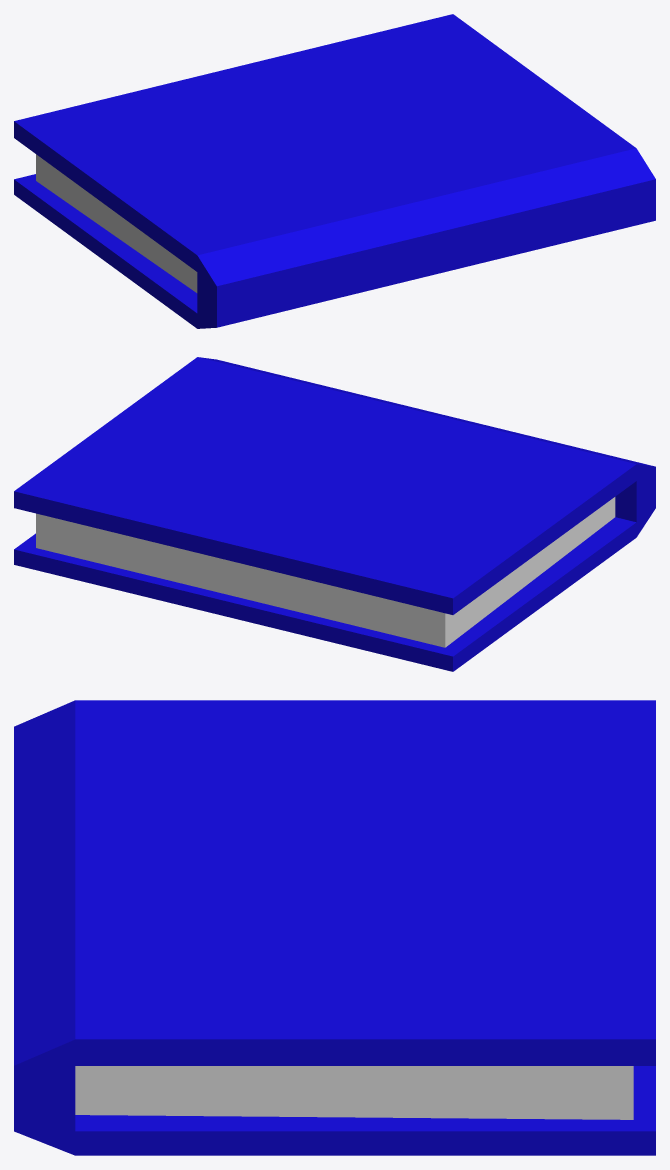
File: bluebook.fbx
The picture shows the model from 3 angles, top to bottom: view 1: azimuth 30°, elevation 25°; view 2: azimuth 150°, elevation 25°; view 3: azimuth 270°, elevation 25°; orthographic projection. The views are drawn at different scales.
Parts seen in each view (by area): view 1: Cube; view 2: Cube; view 3: Cube.
Part boxes in pixels (x1,y1,x2,y2): Cube: (14,14,655,328); Cube: (14,357,655,671); Cube: (14,700,655,1155).
Bounding box in the file's own units: 250 × 40 × 200.
